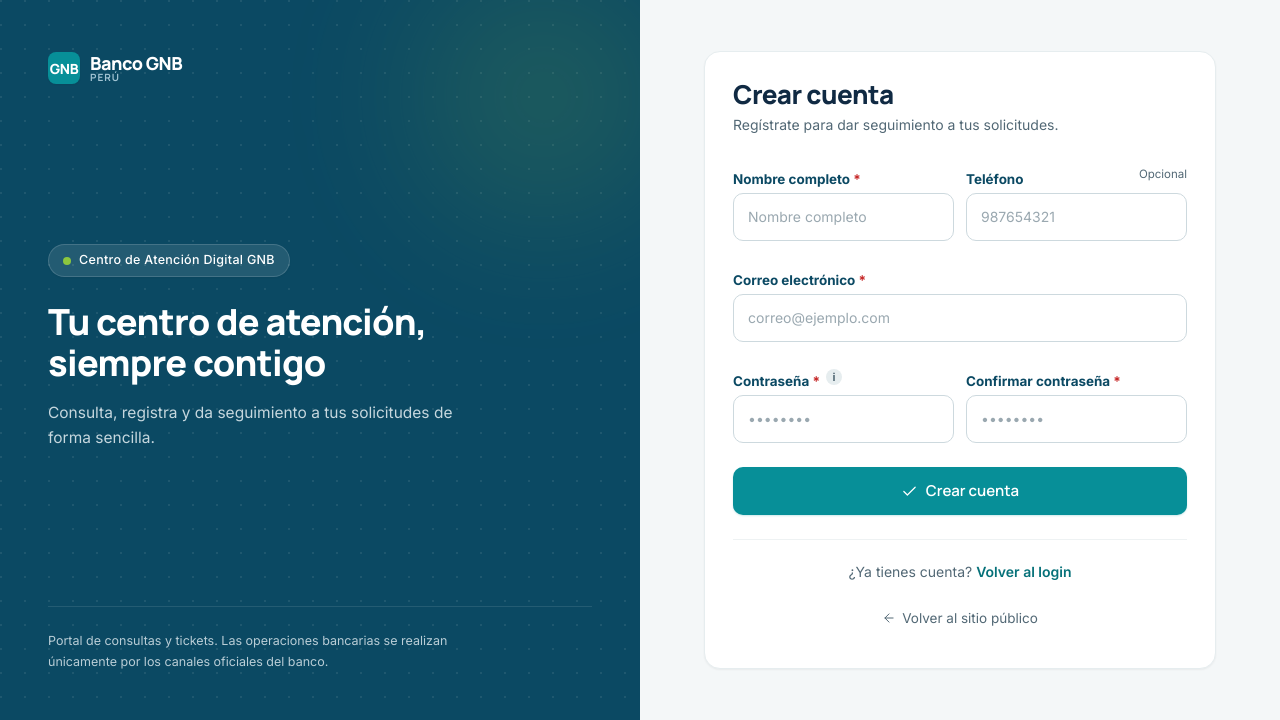
Scenario: formularios de autenticación › registra correctamente y comunica el éxito
Type "Cliente Prueba" into the field labelled "Nombre completo *". click: x=844, y=217
box: [733,193,954,241]
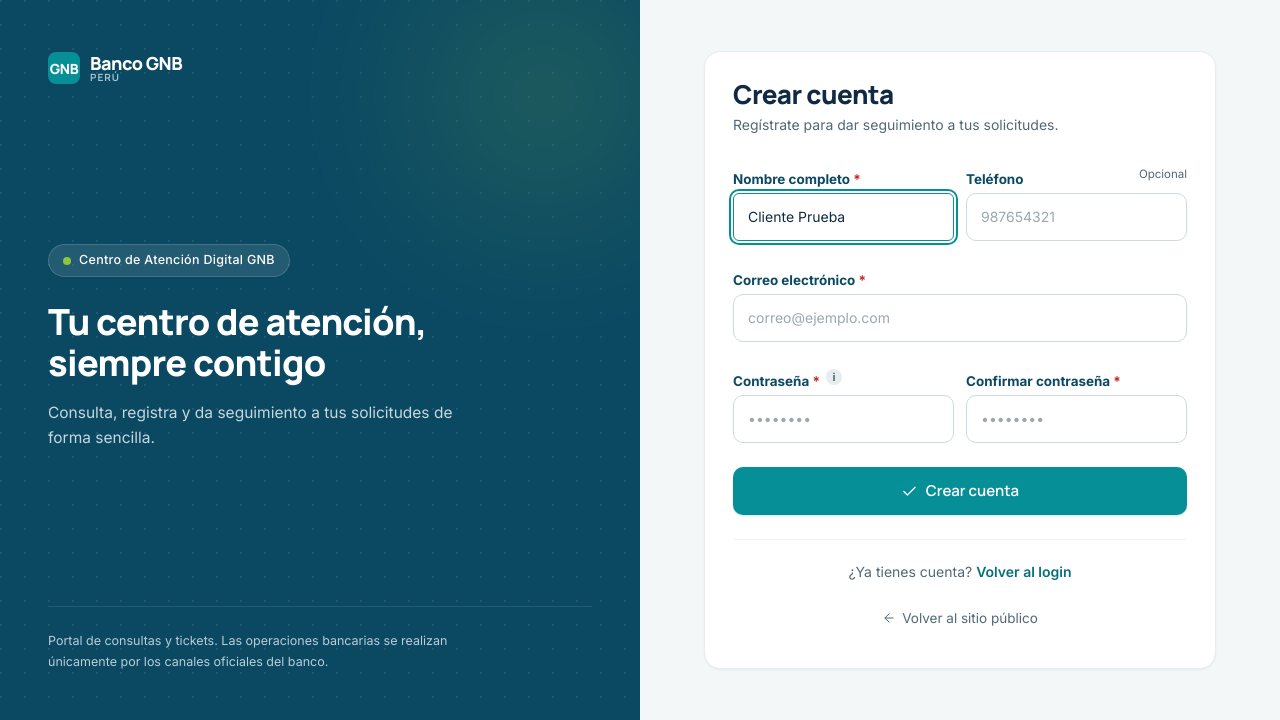
Type "cliente@example.com" into the field labelled "Correo electrónico *". click: x=960, y=318
box: [733,294,1187,342]
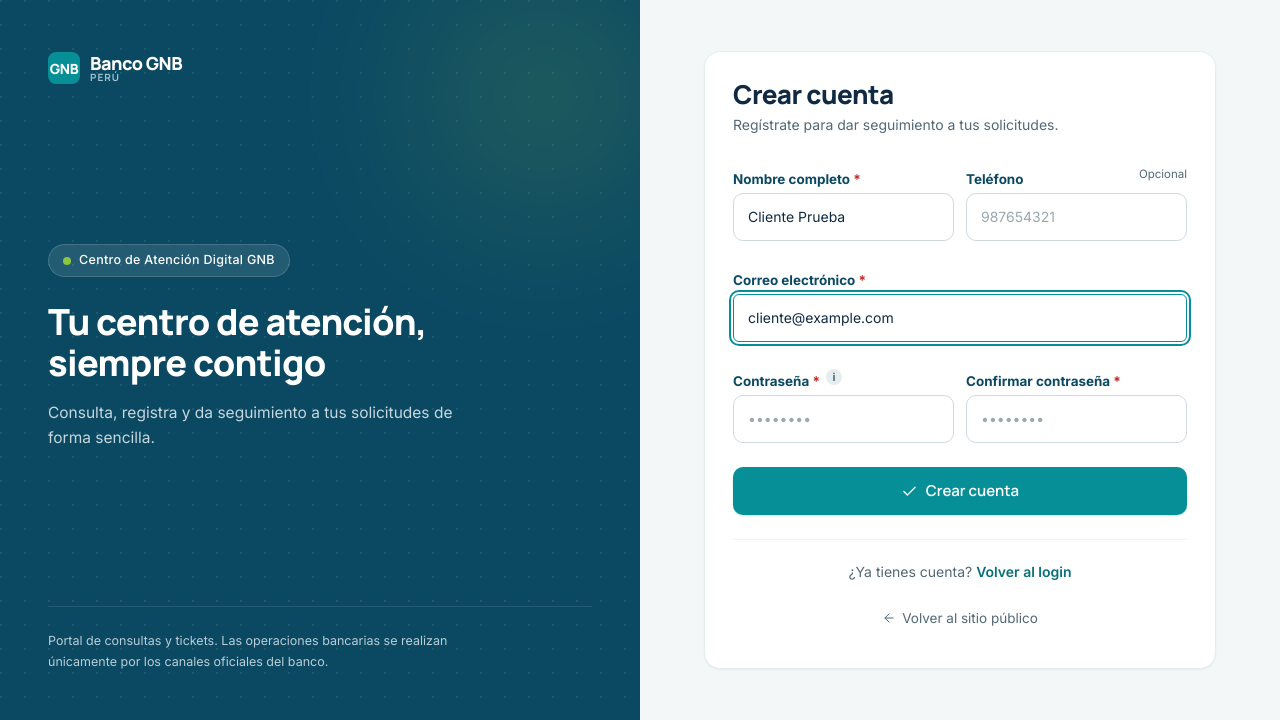
Type "Password123" into the password field labelled "Contraseña *". click: x=844, y=419
box: [733,395,954,443]
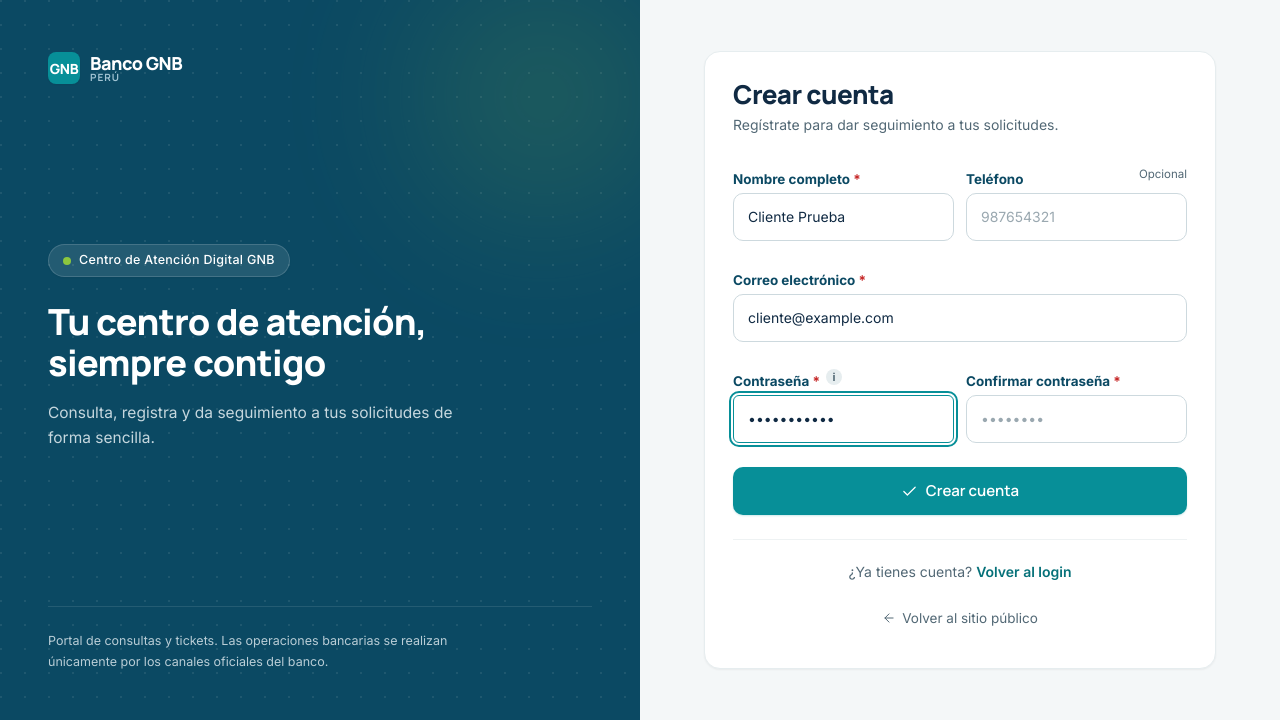
Type "Password123" into the password field labelled "Confirmar contraseña *". click: x=1076, y=419
box: [966,395,1187,443]
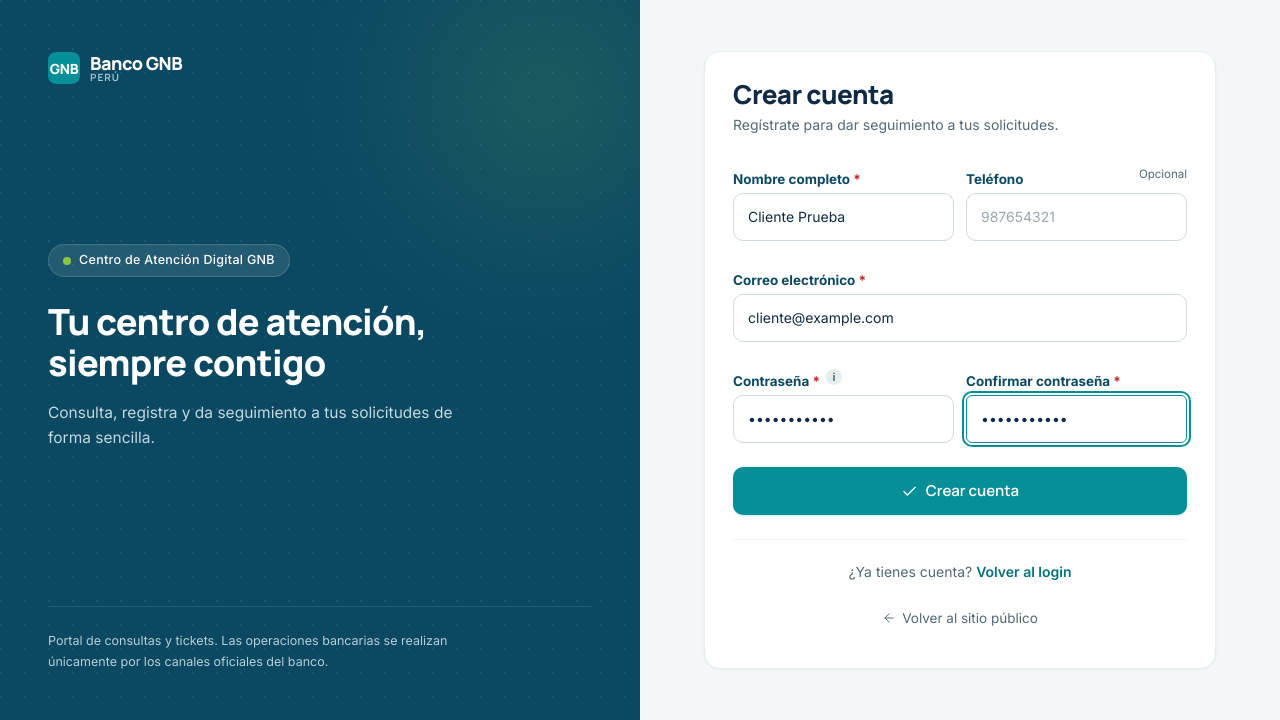
Click the button "Crear cuenta". click: x=960, y=492
box: [733,468,1187,516]
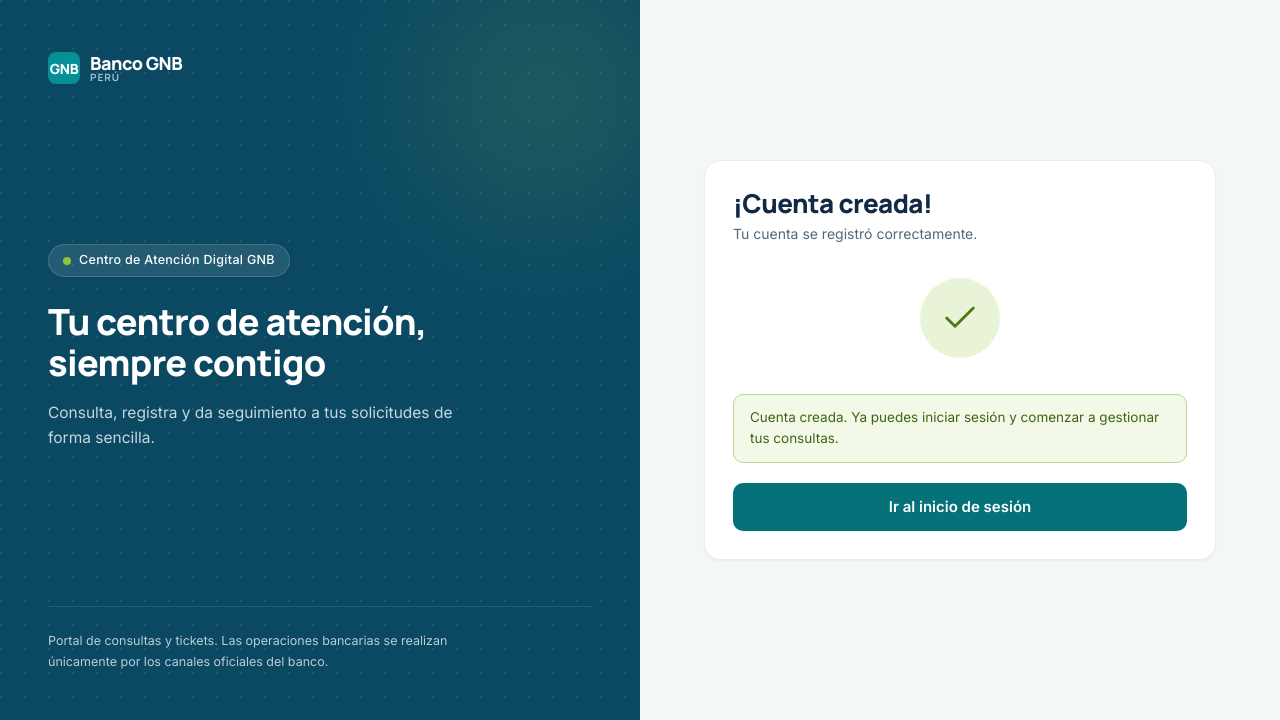
Now the message shows "Cuenta creada", box [750,408,1159,446]
